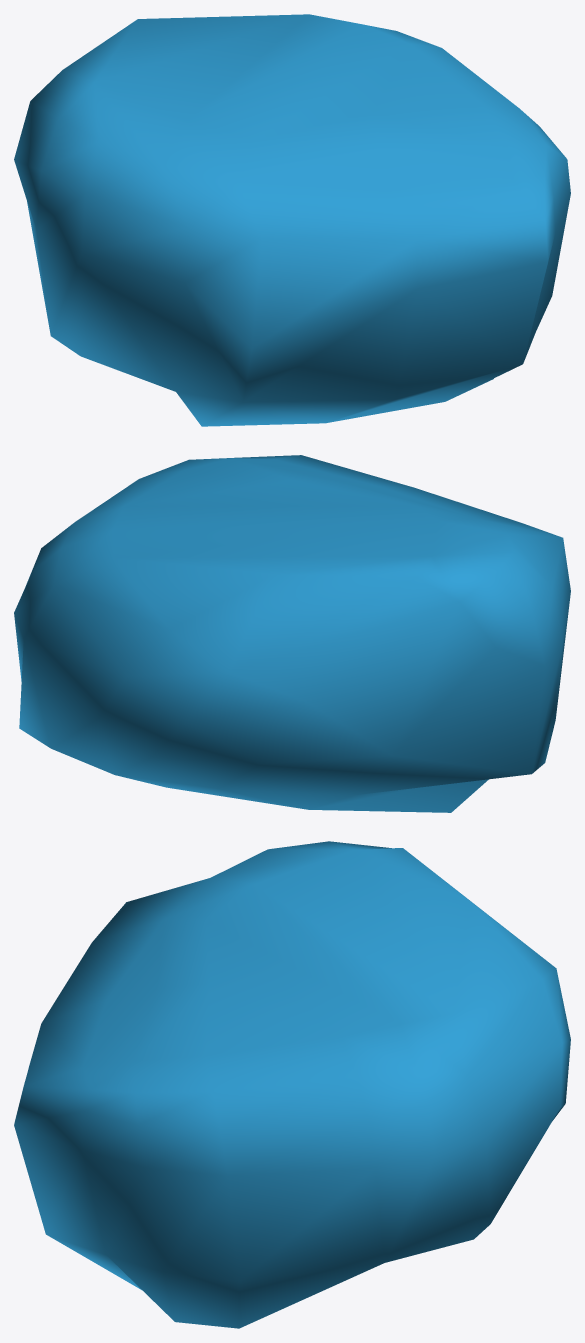
Rendered from Rock_S_05_Lod1.fbx.
The picture shows the model from 3 angles, top to bottom: view 1: azimuth 30°, elevation 25°; view 2: azimuth 150°, elevation 25°; view 3: azimuth 270°, elevation 25°; orthographic projection. The views are drawn at different scales.
Visible parts, largest first — view 1: Rock_S_05_Lod1; view 2: Rock_S_05_Lod1; view 3: Rock_S_05_Lod1.
Boxes of the visible parts, x1,y1,x2,y2 form: Rock_S_05_Lod1: (14,14,570,426); Rock_S_05_Lod1: (14,455,570,812); Rock_S_05_Lod1: (14,841,570,1328).
Size of the model in its own units: 256 by 166 by 252.
